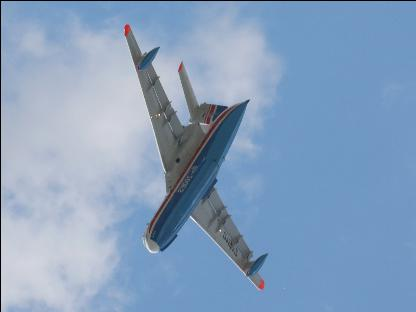B52: (123, 24, 267, 290)
